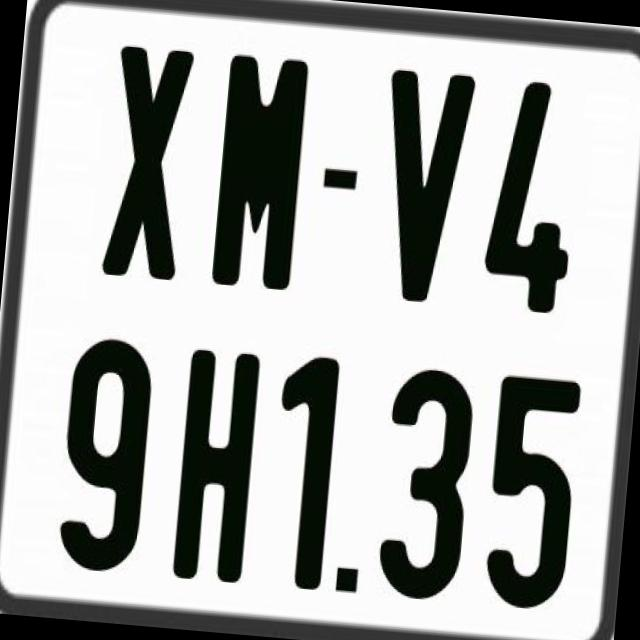1: (264, 350, 346, 590)
3: (376, 362, 478, 602)
4: (480, 74, 584, 314)
5: (480, 371, 587, 611)
9: (55, 335, 162, 579)
H: (170, 344, 266, 585)
M: (211, 49, 315, 287)
V: (370, 66, 477, 305)
X: (98, 42, 190, 281)
